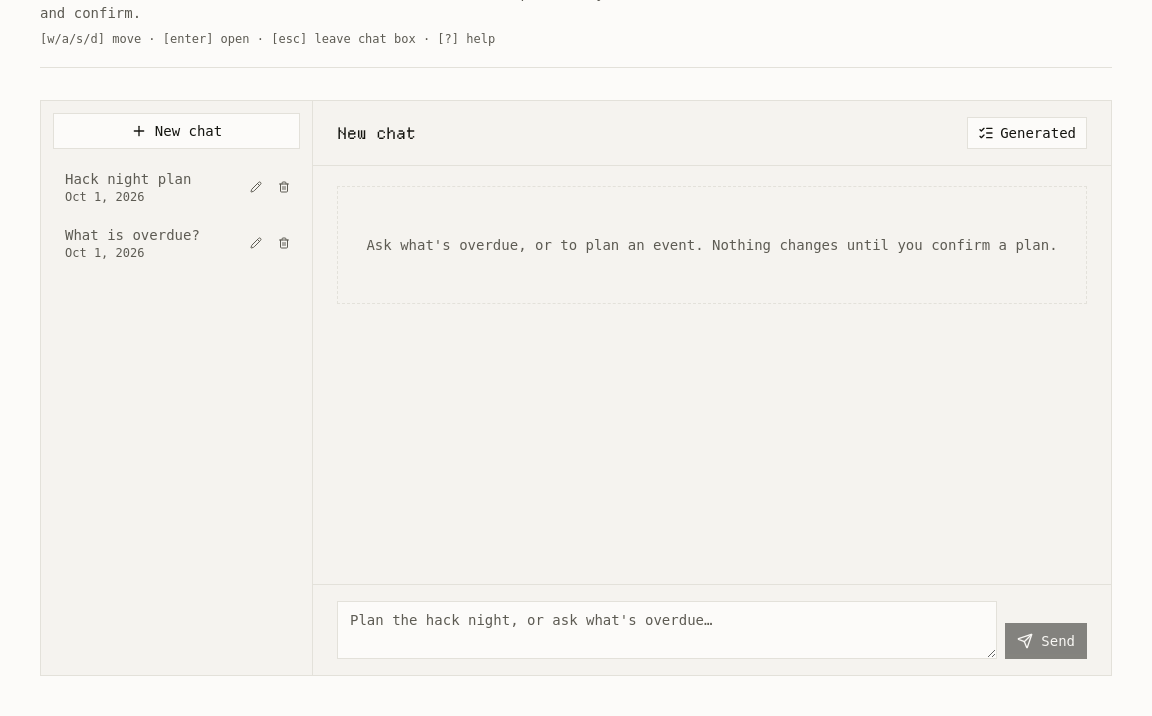
it: puts the text back when the assistant is busy, and makes no chat
(page scrolled)
Type "Plan it" into the text box named "Message the assistant" at point(667, 630), box [337,601,997,659]
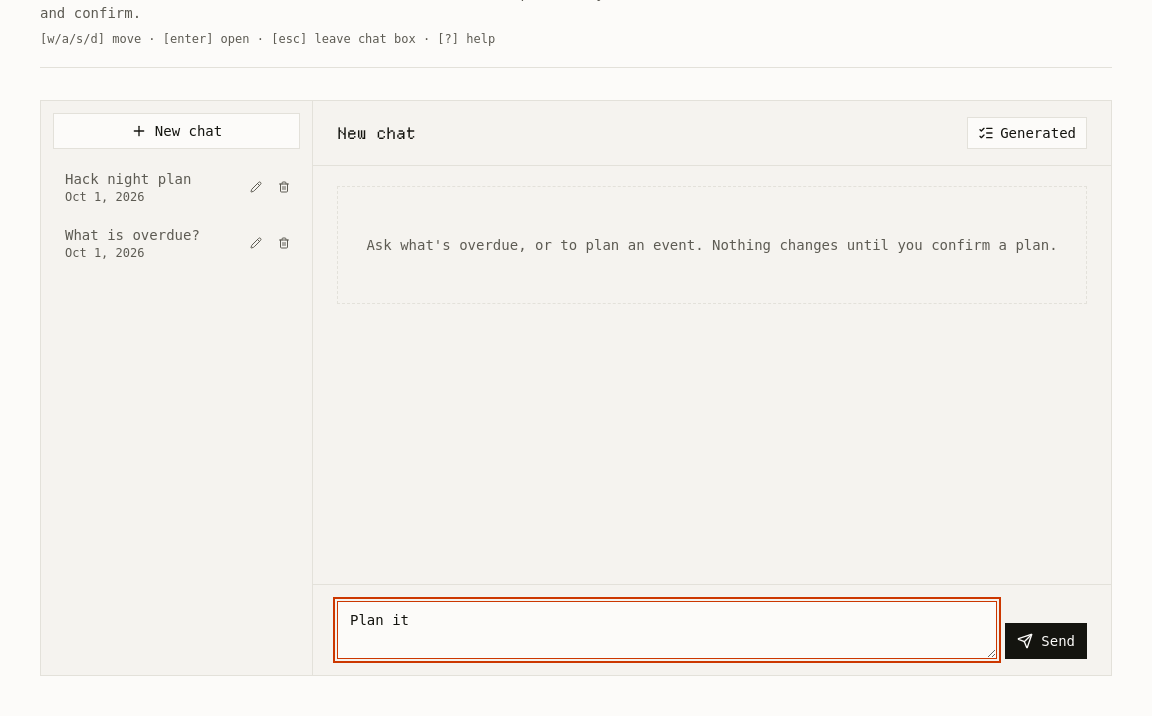
Click the button "Send" at point(1046, 641), box [1005,623,1087,659]
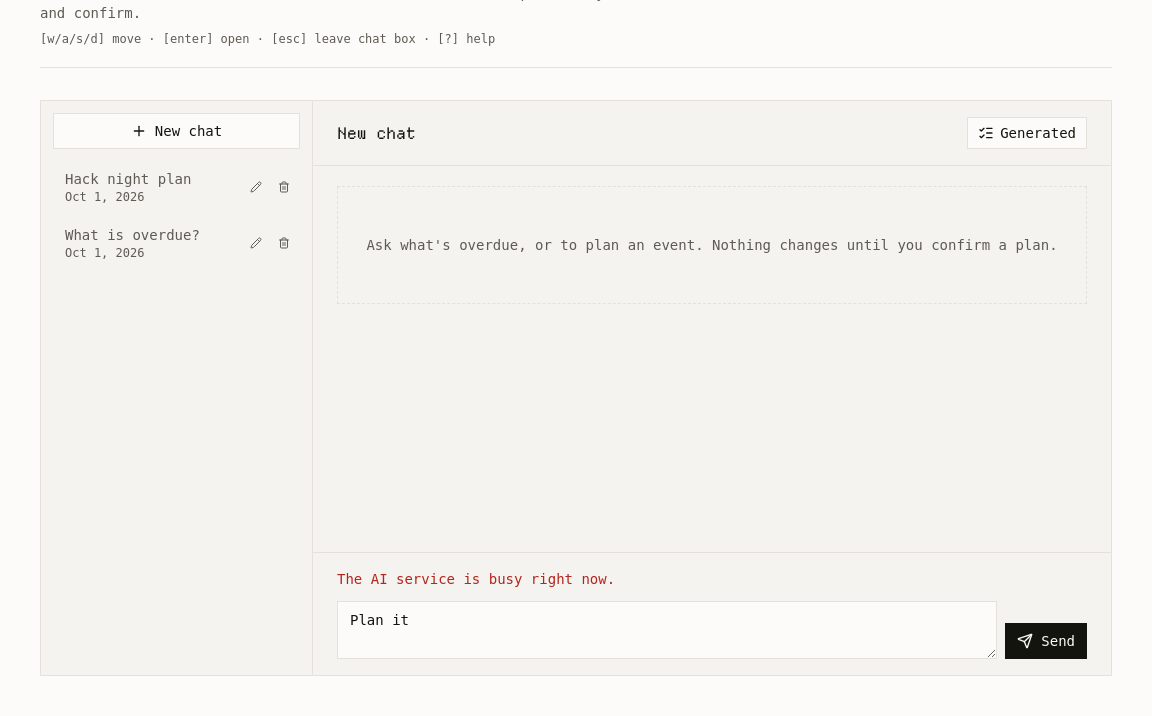
Expected: the message reads "The AI service is busy right now.", [337,571,615,587]
